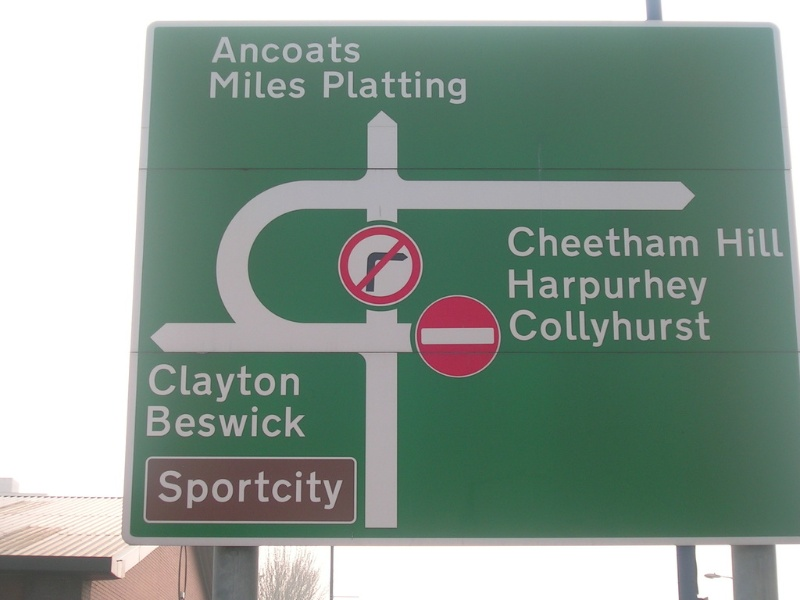no_entry: (411, 292, 504, 382)
no_right_turn: (335, 219, 426, 308)
